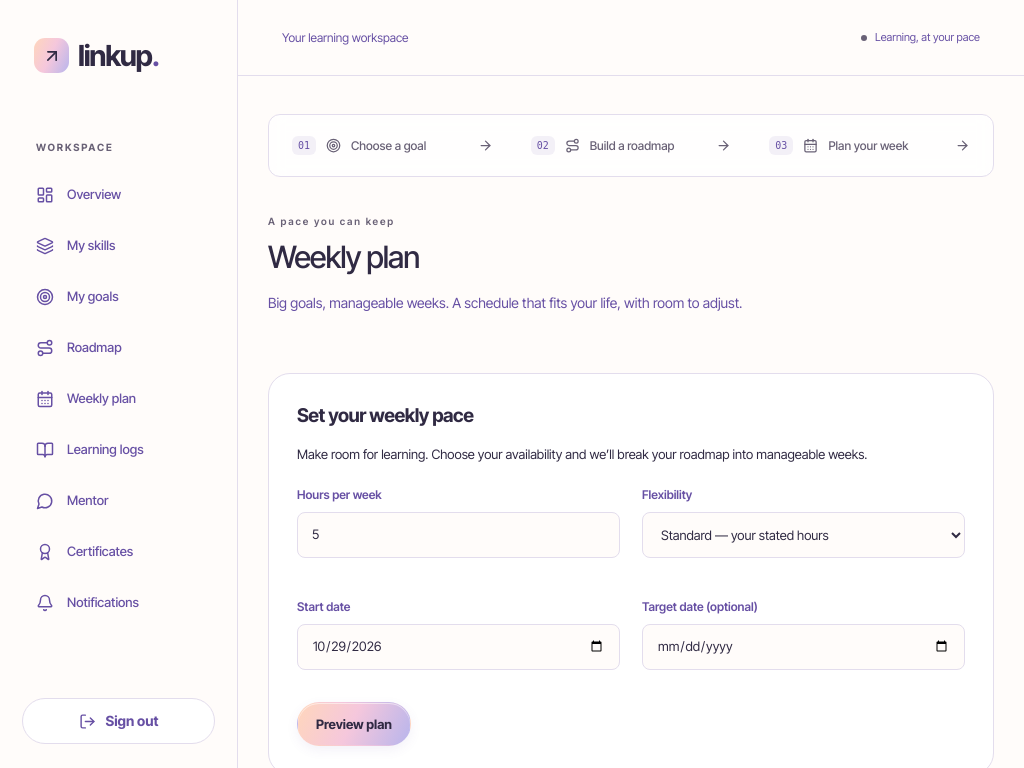
Weekly plan › previews before confirming and preserves settings when cancelling
Click the button "Preview plan". click: click(354, 724)
box: [297,702,411,746]
(page scrolled)
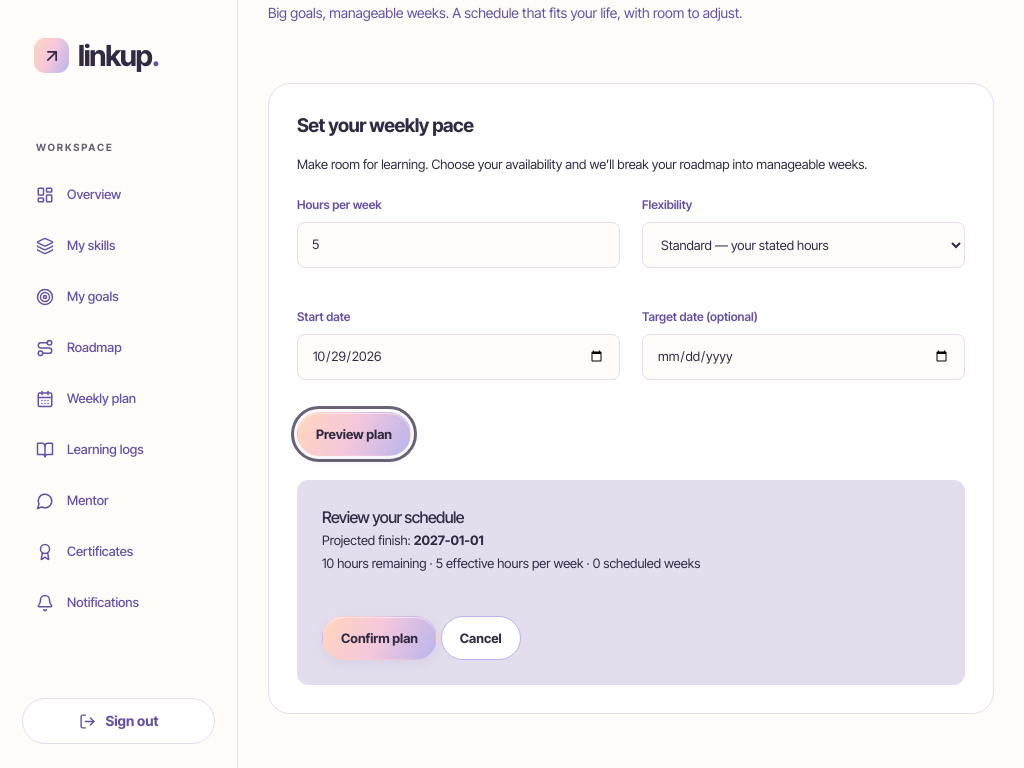
Result: the text "2027-01-01" is shown at [414,532,484,548]
Click the button "Cancel". click: click(481, 638)
box: [441,616,521,660]
(page scrolled)
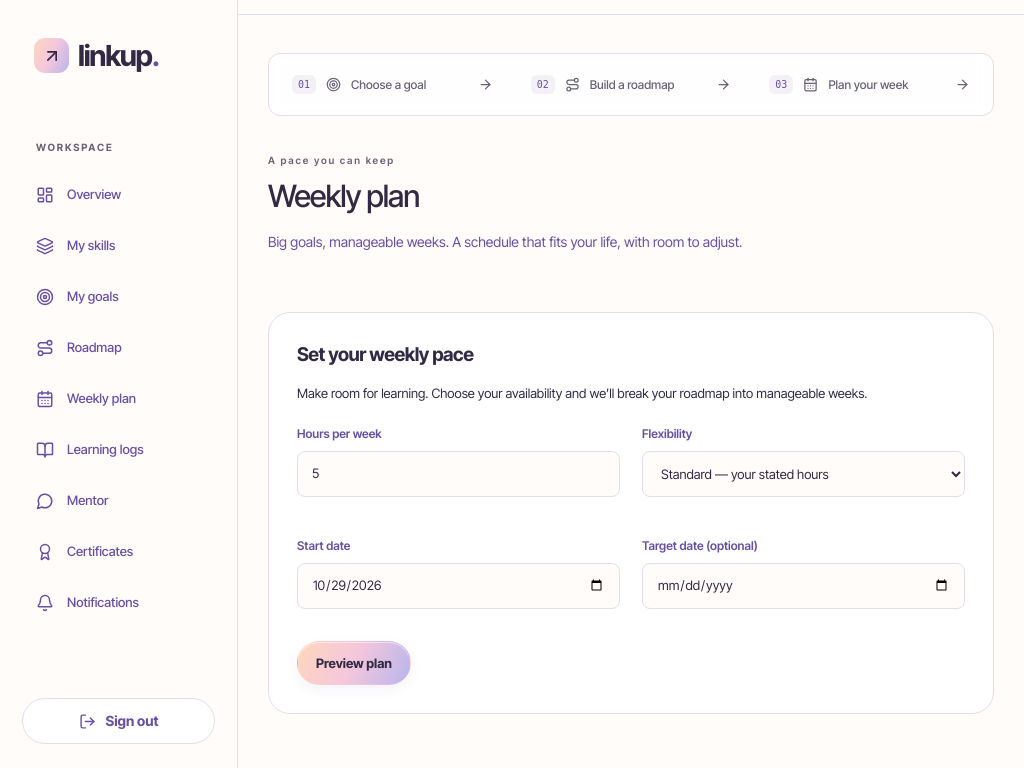
Expected: the number field labelled "Hours per week" holds "5", [297,451,620,497]
Result: the button "Confirm plan" is gone
Click the button "Preview plan". click: click(354, 663)
box: [297,641,411,685]
(page scrolled)
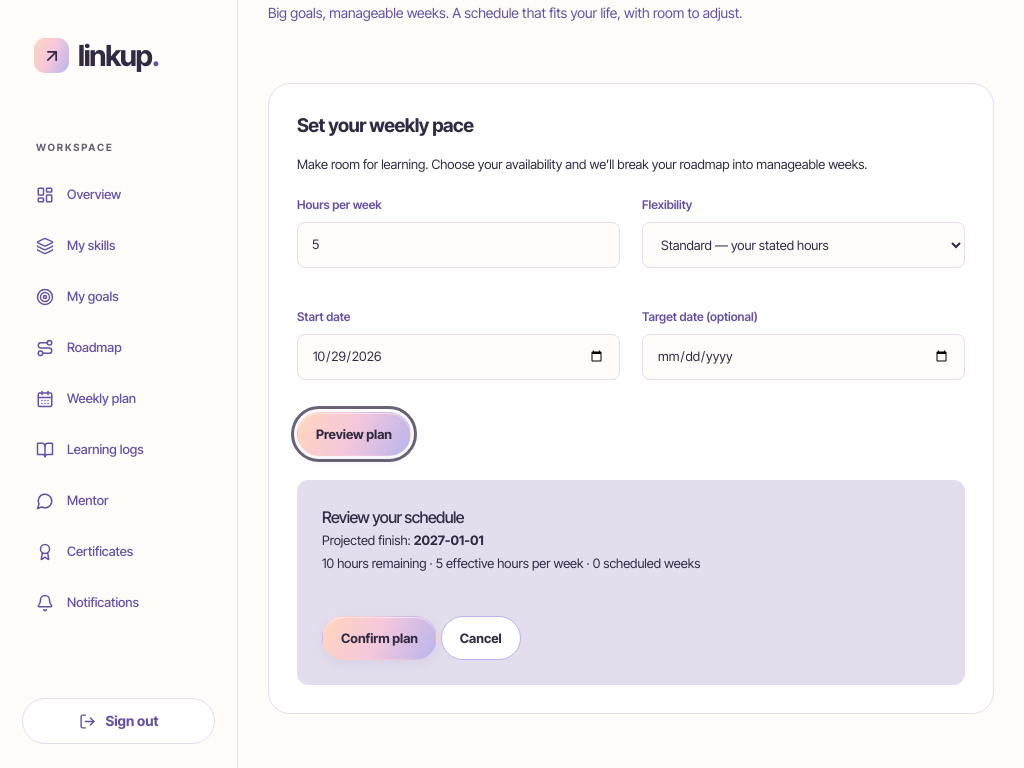
Click the button "Confirm plan". click: click(380, 638)
box: [322,616,437,660]
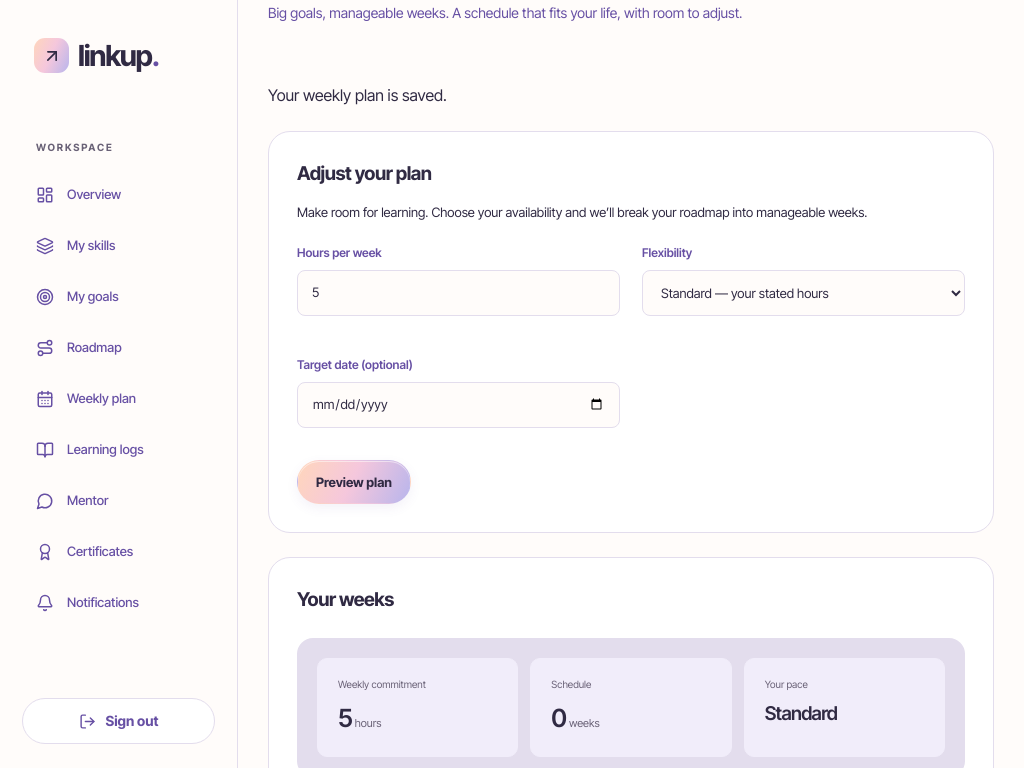
Result: the text "Your weekly plan is saved." is shown at [268,85,447,105]
